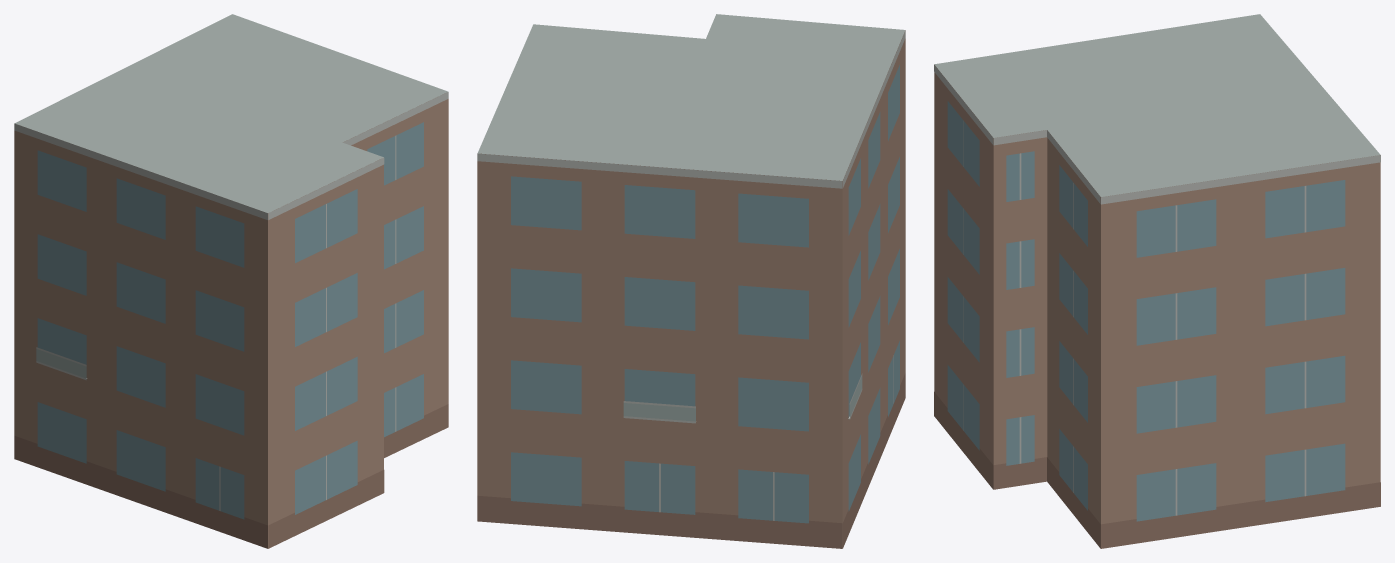
Rendered from survey-upis-32704619.glb.
The picture shows the model from 3 angles, left to right: view 1: azimuth 30°, elevation 25°; view 2: azimuth 150°, elevation 25°; view 3: azimuth 270°, elevation 25°; orthographic projection. The views are drawn at different scales.
Parts seen in each view (by area): view 1: survey-upis-32704619.tmp; view 2: survey-upis-32704619.tmp; view 3: survey-upis-32704619.tmp.
Part boxes in pixels (<box>): survey-upis-32704619.tmp: <box>14,14,448,548</box>; survey-upis-32704619.tmp: <box>477,14,905,548</box>; survey-upis-32704619.tmp: <box>934,14,1380,548</box>.
Bounding box in the file's own units: 12.97 × 11.6 × 13.36.
